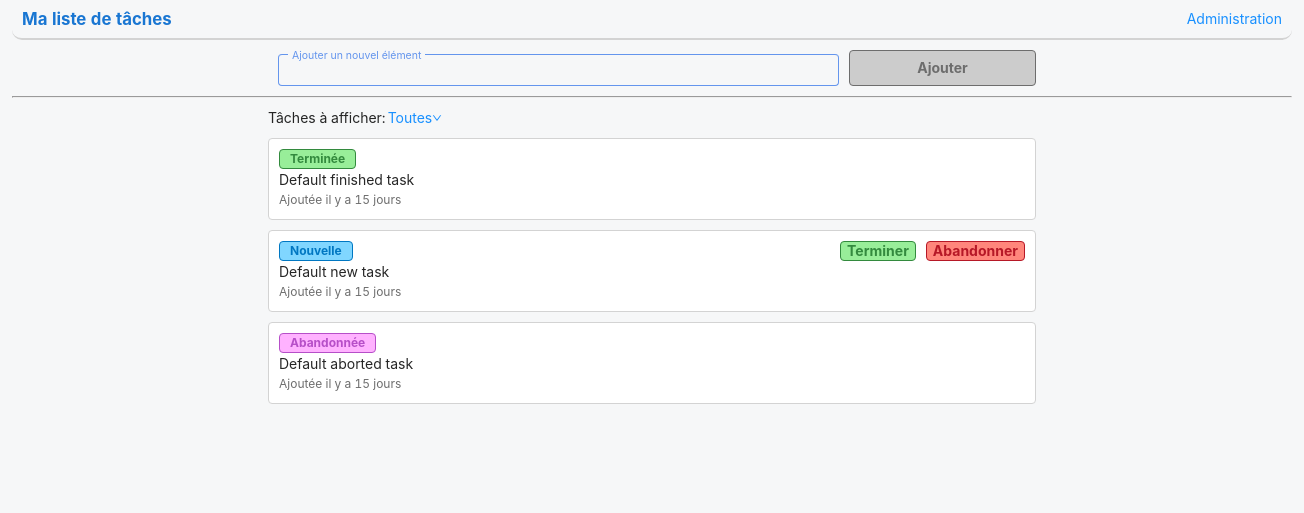
Test: Todo list app › Add new todo (click add button)
In the field with class "add-todo-item-input": coordinates (559, 70) [278,54,839,86], type "Task added by Cypress :)"
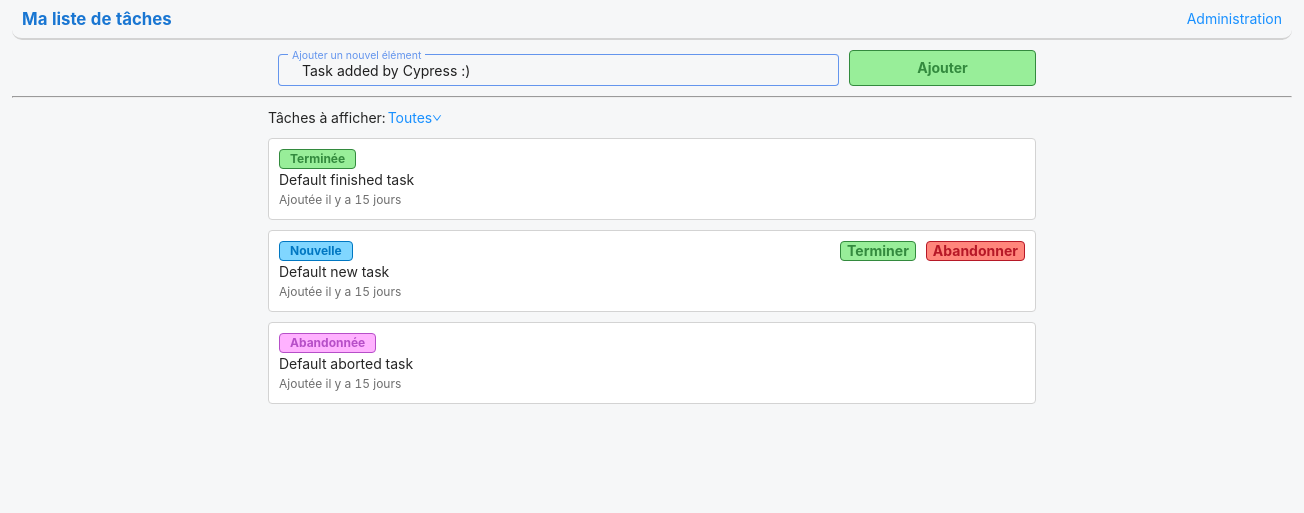
Click the button with class "button-green" showing "Ajouter": coordinates (943, 68) [849,50,1036,86]
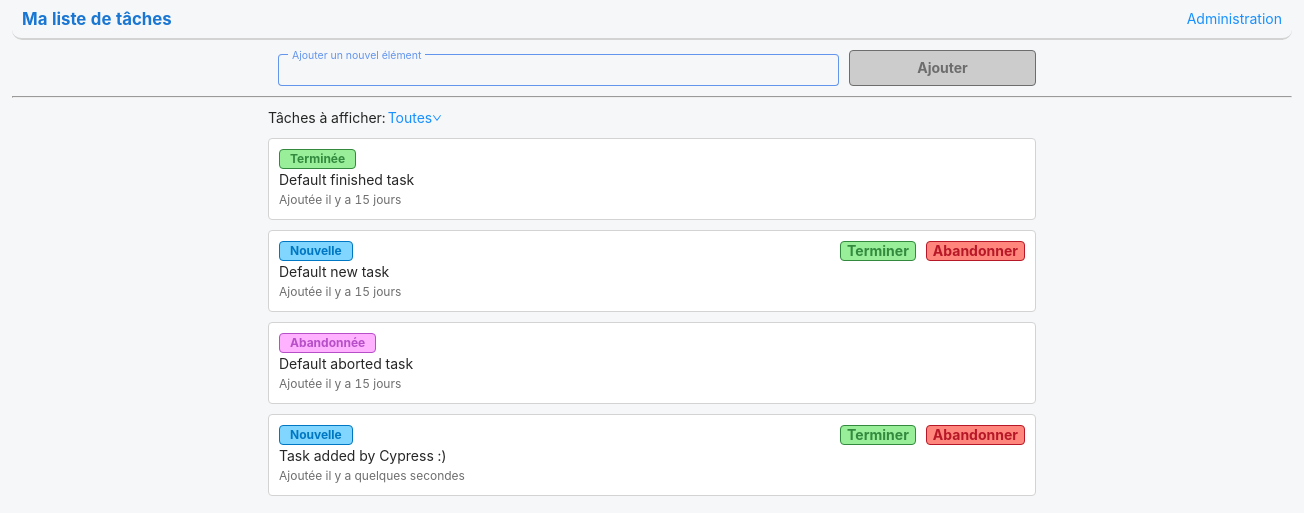
Expected: the number of elements with class "todo-item" is 4, [268,138,1036,220]; [268,230,1036,312]; [268,322,1036,404]; [268,414,1036,496]
